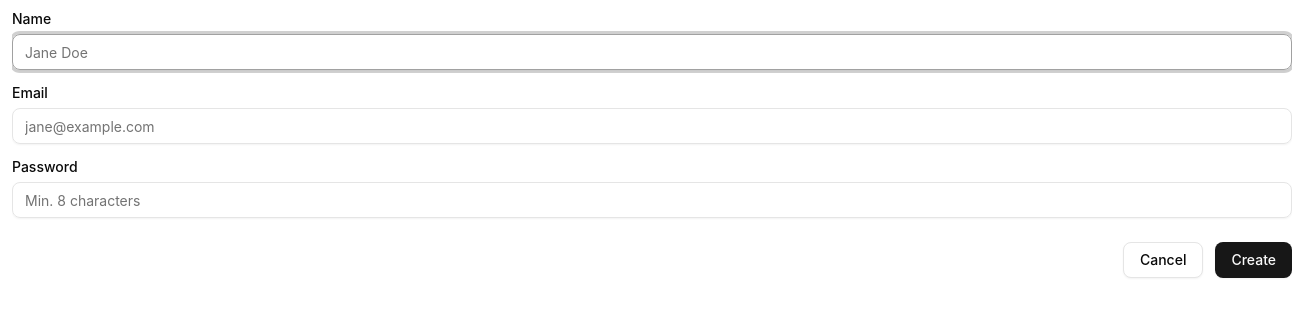
Scenario: UserForm › validation › shows an error and does not POST for an invalid email
Type "New User" into the field labelled "Name" at coordinates (652, 52), box [12,34,1292,70]
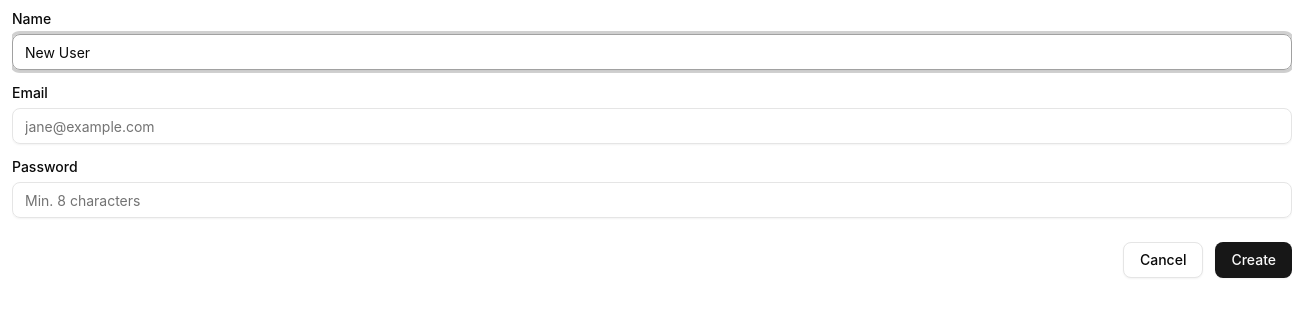
Type "not-an-email" into the field labelled "Email" at coordinates (652, 126), box [12,108,1292,144]
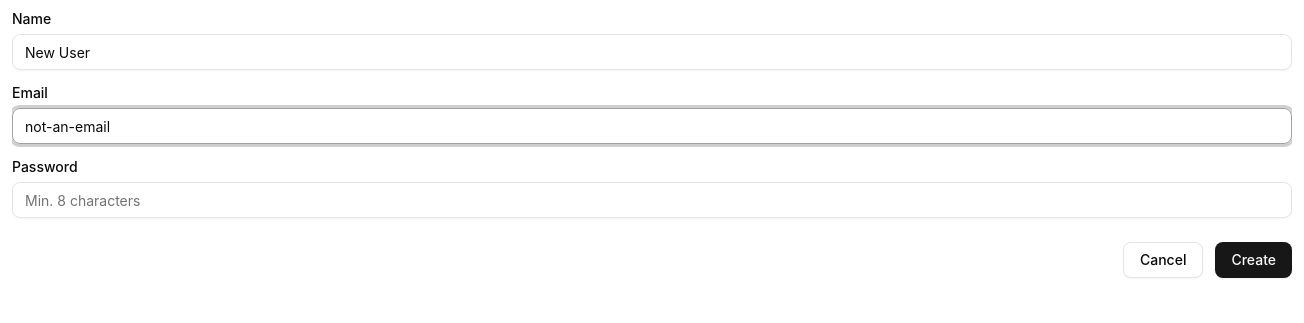
Type "password123" into the password field labelled "Password" at coordinates (652, 200), box [12,182,1292,218]
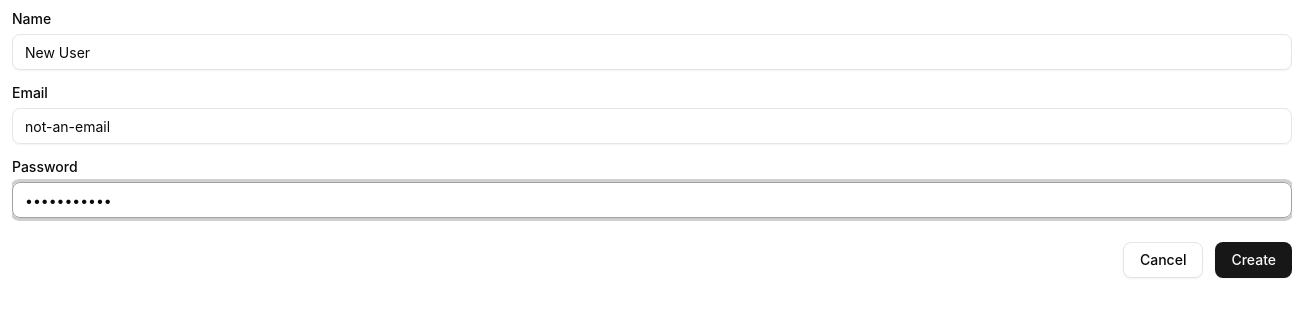
Click the button "Create" at coordinates (1254, 260), box [1215,242,1292,278]
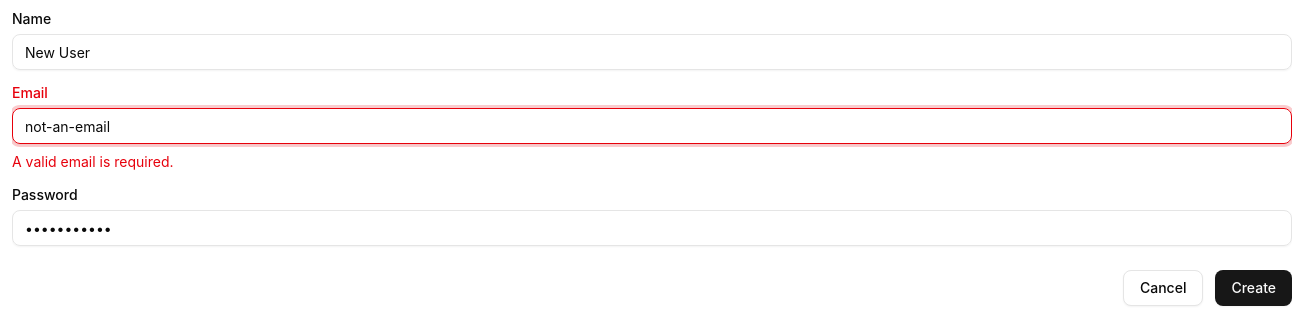
Now the text "A valid email is required." is shown, box [12,153,174,170]
